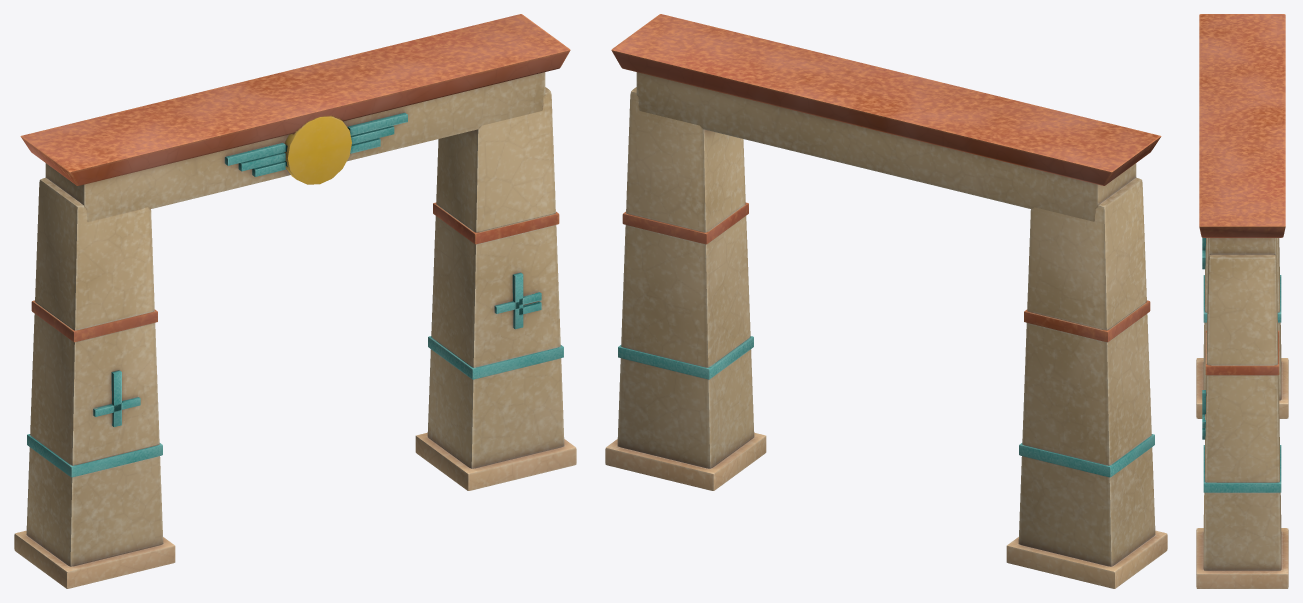
File: Desert_PorteTemple.fbx
The picture shows the model from 3 angles, left to right: view 1: azimuth 30°, elevation 25°; view 2: azimuth 150°, elevation 25°; view 3: azimuth 270°, elevation 25°; orthographic projection. The views are drawn at different scales.
Visible parts, largest first — view 1: Desert_PorteTemple; view 2: Desert_PorteTemple; view 3: Desert_PorteTemple.
Part boxes in pixels (bbox=[...]): Desert_PorteTemple: bbox=[14, 14, 576, 588]; Desert_PorteTemple: bbox=[605, 14, 1167, 588]; Desert_PorteTemple: bbox=[1196, 14, 1288, 588].
Size of the model in its own units: 3000 by 2335 by 540.
Materials: 1 (1 with a texture image).
